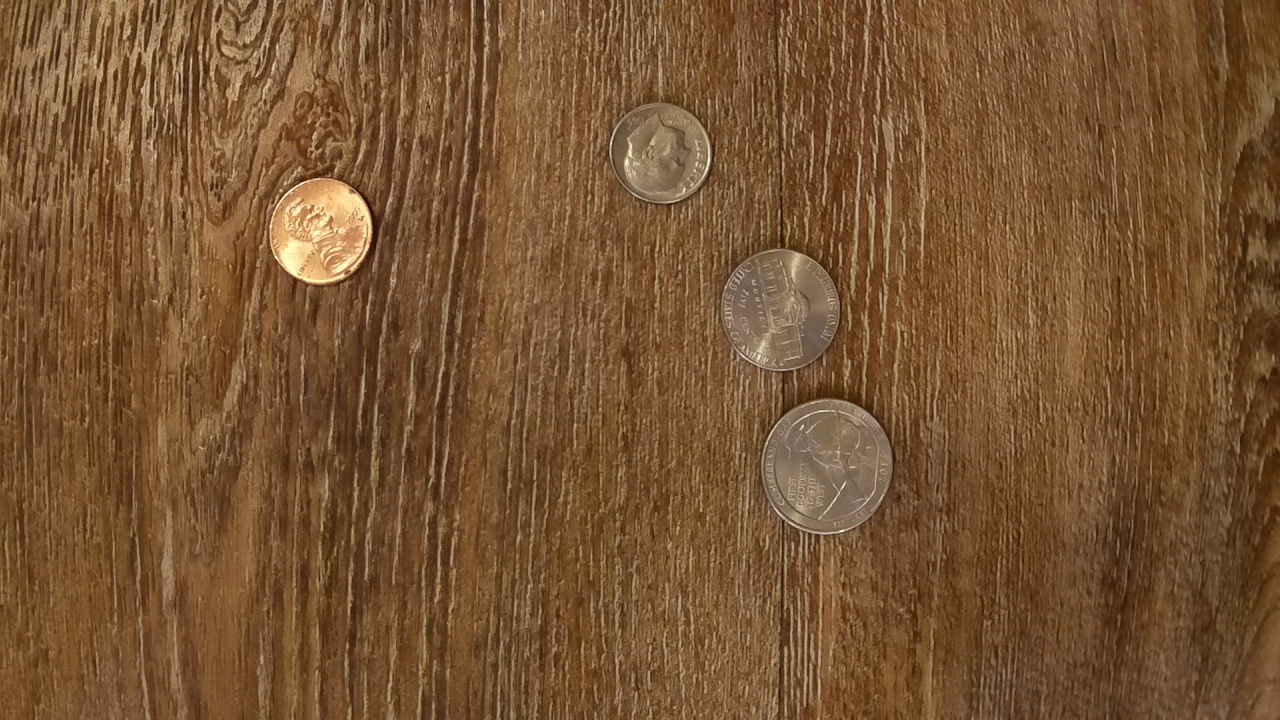dime: (606, 99, 716, 209)
nickel: (714, 244, 840, 374)
penny: (264, 172, 378, 288)
quarter: (759, 395, 895, 539)
